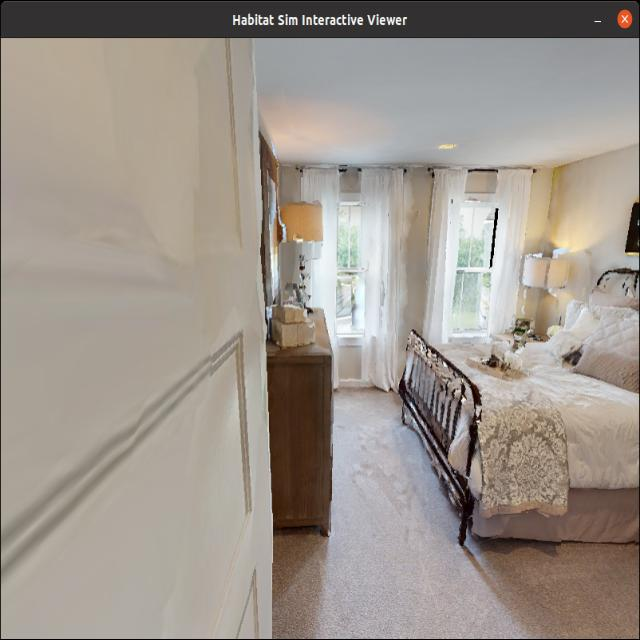bed: (398, 259, 640, 577)
